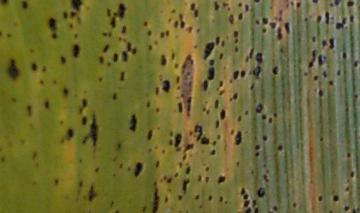tarspot: (90, 113, 98, 147), (7, 58, 18, 80), (204, 41, 214, 60), (153, 183, 159, 213), (194, 124, 203, 142), (308, 50, 317, 68), (174, 131, 184, 147), (129, 114, 137, 132), (161, 79, 171, 93), (87, 187, 96, 202), (72, 1, 83, 12), (49, 17, 57, 32), (207, 65, 215, 80), (119, 3, 126, 19), (186, 97, 193, 113), (284, 20, 291, 36), (135, 161, 142, 177), (251, 66, 261, 77), (183, 178, 190, 193), (255, 52, 264, 63), (235, 131, 242, 145), (227, 12, 235, 24), (112, 51, 119, 64), (328, 37, 335, 50), (177, 99, 183, 114), (276, 28, 283, 40), (201, 136, 210, 145), (336, 20, 345, 29), (217, 175, 226, 184), (219, 109, 227, 119), (255, 103, 263, 113), (257, 187, 265, 197), (18, 136, 26, 146), (26, 105, 32, 118), (81, 115, 88, 126), (213, 1, 220, 12), (73, 45, 79, 57), (67, 128, 73, 140), (122, 51, 128, 63), (185, 144, 194, 152), (249, 47, 255, 59), (324, 12, 330, 24), (243, 3, 250, 13), (82, 97, 88, 108), (160, 55, 166, 66), (203, 79, 208, 92), (269, 21, 277, 29), (22, 1, 29, 10), (187, 25, 194, 34), (271, 66, 278, 75), (262, 16, 269, 25), (263, 174, 270, 183), (110, 18, 116, 28), (127, 42, 133, 52), (147, 129, 152, 141), (318, 54, 323, 66), (31, 63, 38, 71), (60, 56, 67, 64), (115, 142, 122, 150), (237, 13, 244, 21), (333, 194, 340, 202), (239, 187, 246, 195), (122, 24, 127, 35), (106, 8, 112, 17), (104, 44, 110, 53), (44, 100, 50, 109), (233, 29, 239, 38), (207, 193, 213, 202), (63, 10, 68, 20), (99, 55, 104, 65), (63, 87, 68, 97), (120, 71, 125, 81), (165, 28, 170, 38), (154, 86, 159, 96), (155, 159, 160, 169), (215, 36, 220, 46), (234, 70, 239, 80), (204, 174, 209, 184), (51, 33, 58, 40), (40, 65, 47, 72), (173, 62, 180, 69), (210, 149, 217, 156), (267, 117, 274, 124), (295, 1, 302, 8), (317, 195, 324, 202), (184, 167, 191, 174), (82, 135, 88, 143), (173, 20, 179, 28), (168, 139, 174, 147), (181, 153, 187, 161), (232, 92, 238, 100), (261, 112, 267, 120), (222, 2, 230, 8), (346, 1, 354, 7), (322, 71, 328, 79), (353, 60, 359, 68), (344, 205, 350, 213), (53, 177, 59, 185), (31, 151, 37, 159), (59, 137, 65, 145), (34, 161, 40, 169), (175, 75, 180, 84), (180, 20, 185, 29), (194, 9, 199, 18), (214, 100, 219, 109), (215, 120, 220, 129), (342, 51, 347, 60), (77, 16, 82, 25), (39, 79, 45, 86), (10, 97, 17, 103), (97, 76, 103, 83), (143, 20, 149, 27), (147, 44, 153, 51), (167, 17, 173, 24), (161, 148, 167, 155), (209, 59, 215, 66), (218, 53, 224, 60), (236, 115, 242, 122), (254, 150, 260, 157), (277, 144, 283, 151), (321, 40, 327, 47), (312, 75, 319, 81), (328, 79, 334, 86), (336, 69, 342, 76), (349, 171, 355, 178), (272, 205, 279, 211), (243, 193, 249, 200), (243, 200, 249, 207), (174, 171, 180, 178), (163, 175, 169, 182), (163, 196, 169, 203), (166, 187, 173, 193), (1, 1, 9, 6), (171, 7, 176, 15), (219, 80, 224, 88), (245, 55, 250, 63), (255, 18, 260, 26), (333, 1, 341, 6), (350, 15, 355, 23), (342, 16, 347, 24), (252, 199, 257, 207), (266, 5, 274, 10), (70, 12, 76, 18), (52, 79, 58, 85), (171, 51, 175, 60), (176, 146, 182, 152), (30, 49, 36, 55), (250, 82, 254, 91), (311, 1, 320, 5), (303, 71, 309, 77), (250, 169, 256, 175), (194, 194, 200, 200), (82, 88, 88, 94), (6, 34, 13, 39), (78, 107, 83, 114), (59, 119, 64, 126), (112, 93, 117, 100), (160, 31, 165, 38), (147, 101, 152, 108), (179, 13, 184, 20), (191, 3, 196, 10), (169, 131, 174, 138), (216, 134, 221, 141), (255, 144, 260, 151), (241, 70, 246, 77), (233, 39, 240, 44), (279, 47, 284, 54), (317, 16, 322, 23), (322, 54, 327, 61), (262, 161, 267, 168), (167, 177, 172, 184), (79, 181, 84, 188), (110, 201, 115, 208), (1, 156, 6, 163), (142, 205, 147, 212), (179, 161, 183, 169), (319, 89, 323, 97), (113, 11, 118, 17), (102, 31, 108, 36), (154, 40, 159, 46), (156, 107, 161, 113), (176, 84, 181, 90), (180, 92, 185, 98), (193, 45, 199, 50), (211, 141, 217, 146), (219, 90, 225, 95), (230, 128, 235, 134), (244, 110, 249, 116), (262, 136, 268, 141), (319, 136, 324, 142), (237, 3, 243, 8), (261, 28, 267, 33), (329, 2, 334, 8), (330, 15, 335, 21), (345, 186, 350, 192), (292, 202, 297, 208), (219, 196, 224, 202), (245, 208, 251, 213), (95, 167, 100, 173), (108, 31, 112, 38), (133, 48, 137, 55), (148, 30, 152, 37), (189, 130, 193, 137), (221, 40, 225, 47), (236, 160, 240, 167), (273, 111, 277, 118), (347, 151, 351, 158), (279, 8, 283, 15), (312, 35, 316, 42), (178, 194, 182, 201), (78, 157, 82, 164), (253, 1, 262, 4), (278, 17, 283, 22), (289, 1, 294, 6), (205, 166, 210, 171), (198, 176, 203, 181), (155, 126, 160, 131), (153, 145, 158, 150), (69, 23, 73, 29), (74, 33, 78, 39), (207, 109, 211, 115), (354, 93, 358, 99), (234, 46, 238, 52), (254, 207, 258, 213), (119, 163, 123, 169), (115, 209, 121, 213), (127, 166, 131, 172), (107, 62, 111, 67), (118, 37, 123, 41), (196, 29, 201, 33), (202, 108, 206, 113), (229, 79, 233, 84), (227, 7, 232, 11), (304, 17, 308, 22), (346, 178, 350, 183), (356, 207, 360, 212), (148, 149, 152, 153), (286, 4, 290, 8), (199, 205, 203, 209), (112, 173, 116, 177), (352, 208, 355, 213), (329, 210, 334, 213), (225, 200, 228, 205), (1, 32, 3, 37)
